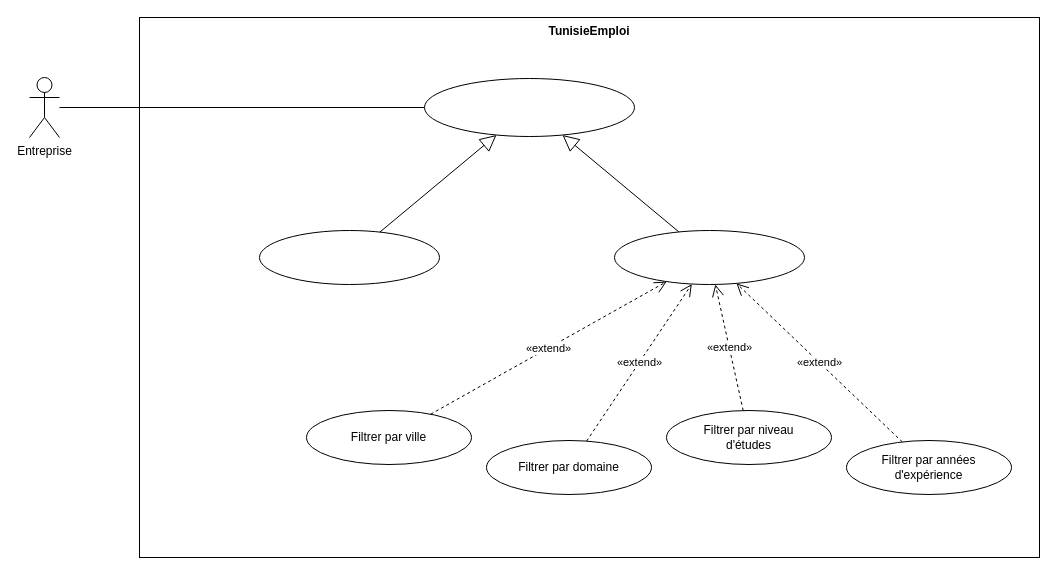
The diagram is 1057 pixels wide and 575 high, and some of its shapes have lost their labels. Each missing label, with the centre of its shape:
"Recherche avancée (filtres)" belongs at (x=709, y=257).
"Recherche simple (mot-clé)" belongs at (x=349, y=257).
"Rechercher des candidats" belongs at (x=529, y=107).
